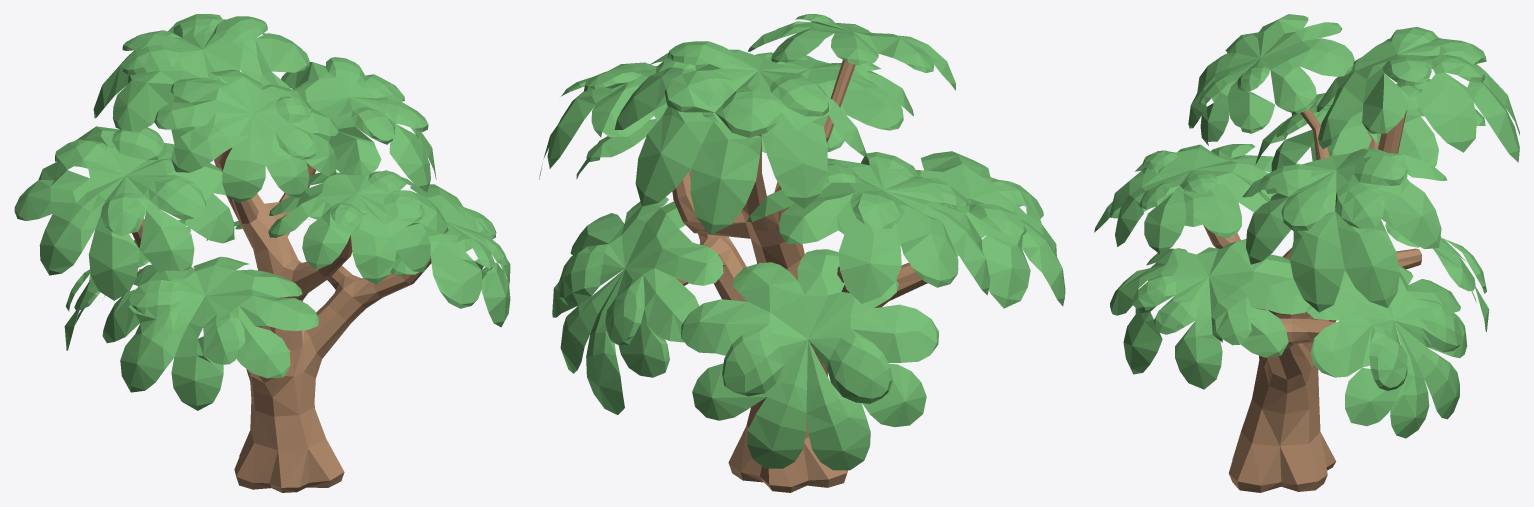
File: nat_maple.glb
3 views of the same model, side by side, from view 1: azimuth 30°, elevation 25°; view 2: azimuth 150°, elevation 25°; view 3: azimuth 270°, elevation 25° (orthographic). The views are drawn at different scales.
Parts seen in each view (by area): view 1: geometry_0; view 2: geometry_0; view 3: geometry_0.
Boxes of the visible parts, x1,y1,x2,y2 form: geometry_0: [14, 14, 510, 492]; geometry_0: [539, 14, 1065, 492]; geometry_0: [1094, 14, 1519, 492].
Bounding box in the file's own units: 0.1875 × 0.1851 × 0.1699.
